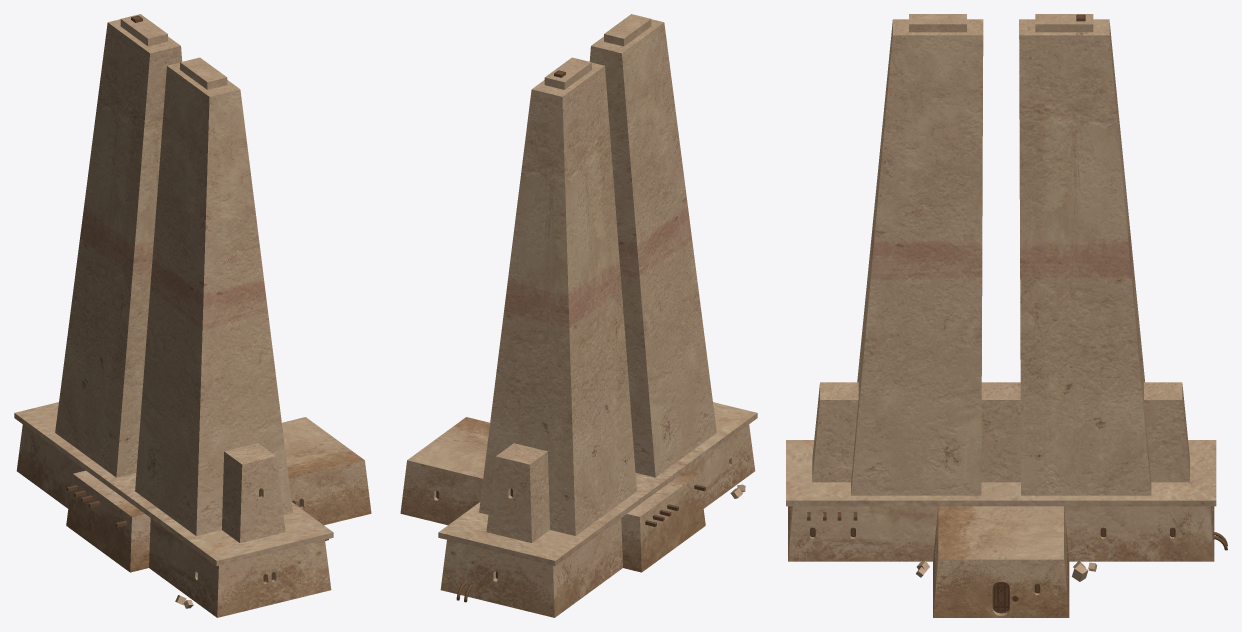
Rendered from Edificio 4.fbx.
3 renders of one model, left to right at view 1: azimuth 30°, elevation 25°; view 2: azimuth 150°, elevation 25°; view 3: azimuth 270°, elevation 25°, orthographic. The views are drawn at different scales.
Visible parts, largest first — view 1: building29; view 2: building29; view 3: building29.
Boxes of the visible parts, left/top/right/bottom form: building29: left=14, top=14, right=371, bottom=617; building29: left=400, top=14, right=757, bottom=617; building29: left=786, top=14, right=1227, bottom=617.
Bounding box in the file's own units: 1966 × 3720 × 2854.
